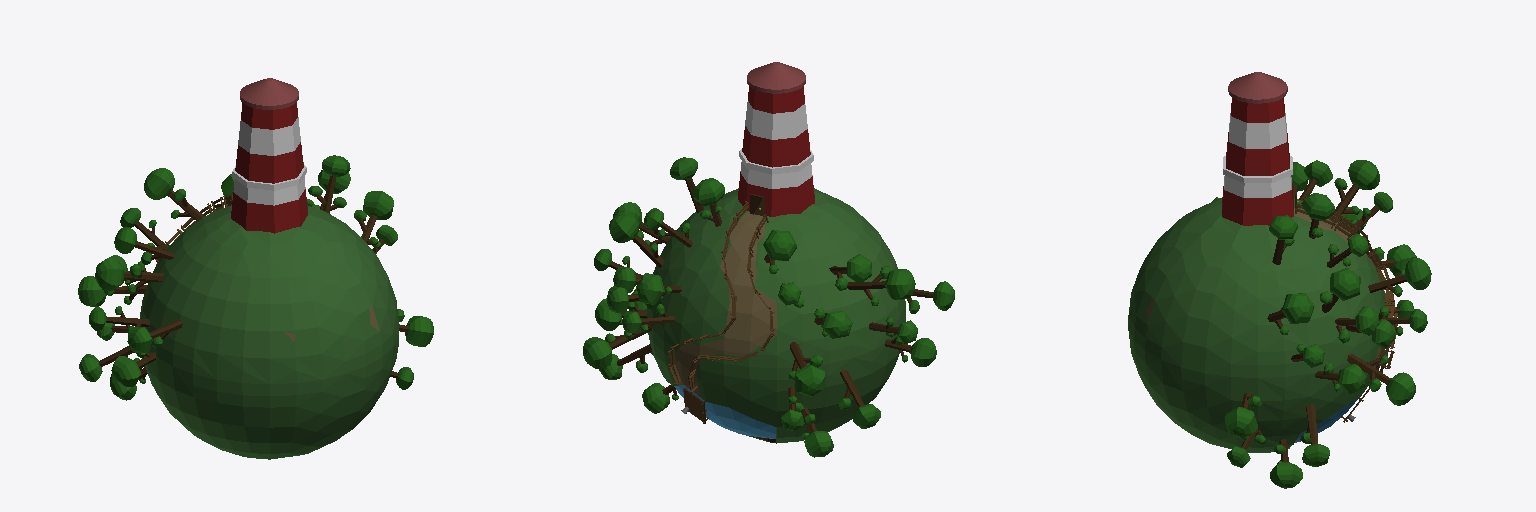
Rendered from casa.obj.
3 renders of one model, left to right at view 1: azimuth 30°, elevation 25°; view 2: azimuth 150°, elevation 25°; view 3: azimuth 270°, elevation 25°, orthographic.
Parts seen in each view (by area): view 1: pSphere2_polySurface28, pCylinder3, pCylinder1, pCylinder4, Low_Poly_Trees:pSphere1_polySurface106, Low_Poly_Trees:pSphere1_polySurface112, Low_Poly_Trees:pSphere1_polySurface114, Low_Poly_Trees:pSphere1_polySurface113, Low_Poly_Trees:pSphere5_polySurface112, Low_Poly_Trees:pSphere1_polySurface111, pCylinder2, Low_Poly_Trees:pSphere2_polySurface112; view 2: pSphere2_polySurface28, pCylinder3, pCylinder1, pCylinder4, polySurface27_pSphere2, Low_Poly_Trees:pSphere1_polySurface106, Low_Poly_Trees:pSphere1_polySurface111, Low_Poly_Trees:pSphere1_polySurface112, Low_Poly_Trees:pSphere1_polySurface107, Low_Poly_Trees:pSphere1_polySurface1, Low_Poly_Trees:pSphere5_polySurface110, Low_Poly_Trees:pSphere5_polySurface5 (+7 smaller); view 3: pSphere2_polySurface28, pCylinder3, pCylinder1, pCylinder4, Low_Poly_Trees:pSphere1_polySurface1, Low_Poly_Trees:pSphere1_polySurface113, Low_Poly_Trees:pSphere1_polySurface114, Low_Poly_Trees:pSphere1_polySurface106, Low_Poly_Trees:pSphere1_polySurface107, Low_Poly_Trees:pSphere5_polySurface114, Low_Poly_Trees:pSphere5_polySurface110, Low_Poly_Trees:pSphere5_polySurface5 (+4 smaller).
Boxes of the visible parts, x1,y1,x2,y2 form: pSphere2_polySurface28: [140, 205, 398, 459]; pCylinder3: [235, 102, 303, 183]; pCylinder1: [231, 177, 307, 233]; pCylinder4: [240, 78, 298, 109]; Low_Poly_Trees:pSphere1_polySurface106: [144, 168, 174, 199]; Low_Poly_Trees:pSphere1_polySurface112: [95, 257, 124, 291]; Low_Poly_Trees:pSphere1_polySurface114: [405, 316, 433, 346]; Low_Poly_Trees:pSphere1_polySurface113: [363, 191, 393, 219]; Low_Poly_Trees:pSphere5_polySurface112: [111, 356, 140, 386]; Low_Poly_Trees:pSphere1_polySurface111: [78, 276, 106, 306]; pCylinder2: [232, 165, 306, 190]; Low_Poly_Trees:pSphere2_polySurface112: [127, 327, 151, 352]; pSphere2_polySurface28: [647, 188, 905, 443]; pCylinder3: [742, 86, 810, 167]; pCylinder1: [738, 162, 814, 216]; pCylinder4: [747, 62, 805, 93]; polySurface27_pSphere2: [674, 385, 775, 438]; Low_Poly_Trees:pSphere1_polySurface106: [763, 230, 796, 260]; Low_Poly_Trees:pSphere1_polySurface111: [794, 364, 824, 396]; Low_Poly_Trees:pSphere1_polySurface112: [885, 269, 915, 299]; Low_Poly_Trees:pSphere1_polySurface107: [583, 337, 612, 369]; Low_Poly_Trees:pSphere1_polySurface1: [609, 211, 638, 242]; Low_Poly_Trees:pSphere5_polySurface110: [636, 273, 664, 304]; Low_Poly_Trees:pSphere5_polySurface5: [693, 178, 724, 205]; pSphere2_polySurface28: [1128, 198, 1385, 452]; pCylinder3: [1226, 97, 1289, 175]; pCylinder1: [1222, 176, 1293, 225]; pCylinder4: [1228, 72, 1287, 103]; Low_Poly_Trees:pSphere1_polySurface1: [1330, 268, 1360, 300]; Low_Poly_Trees:pSphere1_polySurface113: [1282, 293, 1314, 323]; Low_Poly_Trees:pSphere1_polySurface114: [1225, 407, 1257, 438]; Low_Poly_Trees:pSphere1_polySurface106: [1348, 160, 1379, 189]; Low_Poly_Trees:pSphere1_polySurface107: [1386, 372, 1415, 405]; Low_Poly_Trees:pSphere5_polySurface114: [1270, 462, 1302, 488]; Low_Poly_Trees:pSphere5_polySurface110: [1405, 258, 1431, 289]; Low_Poly_Trees:pSphere5_polySurface5: [1302, 193, 1334, 220].
Size of the model in its own units: 48.12 by 53.94 by 40.3.